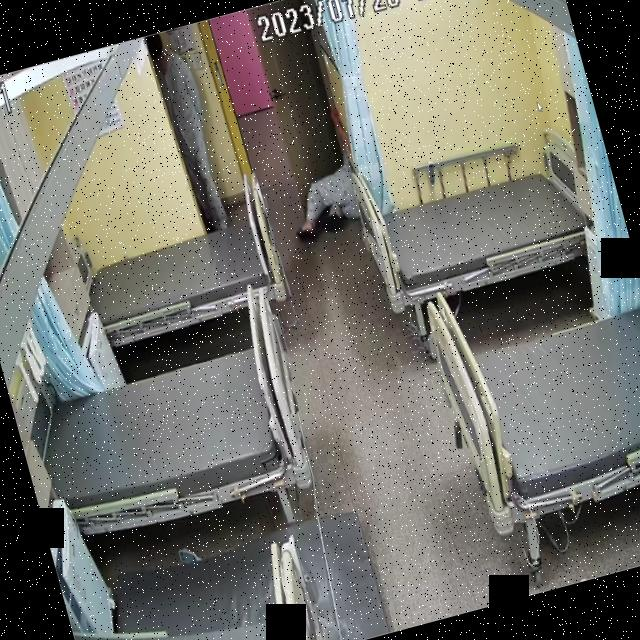bed: (417, 241, 640, 535), (24, 329, 318, 544), (352, 140, 609, 316), (80, 204, 288, 348)
fall: (282, 151, 370, 249)
patient: (148, 26, 232, 233), (282, 150, 371, 246)
stand: (145, 26, 232, 232)
